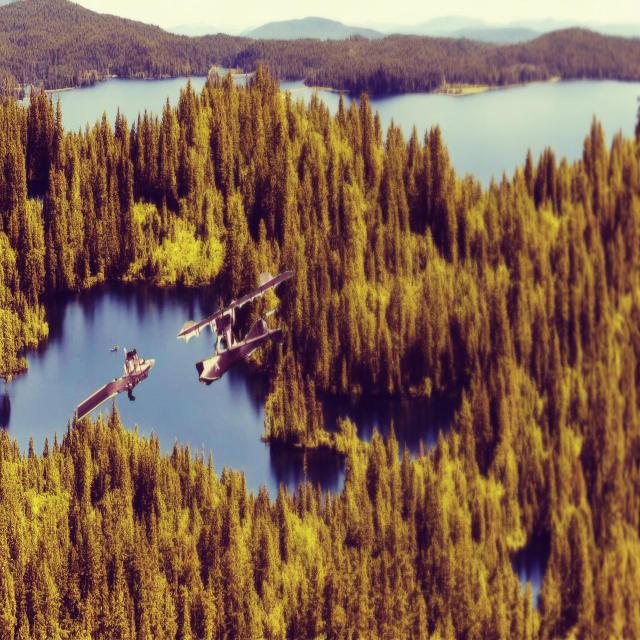airplane: (176, 268, 295, 386), (75, 344, 155, 422)
